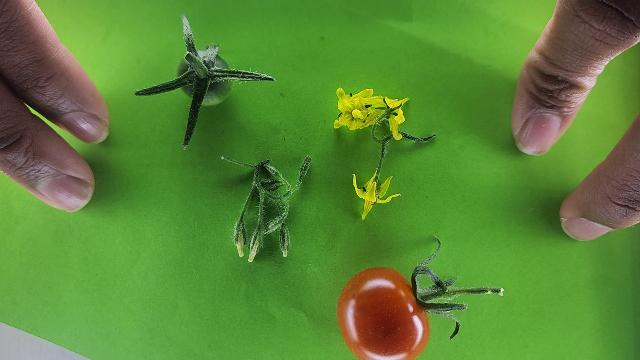Anthesis: (352, 168, 401, 221), (334, 87, 383, 131), (375, 94, 410, 139)
Flower Bud: (296, 154, 311, 189), (233, 222, 246, 259), (249, 236, 259, 261), (282, 232, 289, 256), (248, 251, 255, 263)
Fruit Maturation: (178, 52, 234, 106)
Fully Grown: (334, 266, 430, 360)
